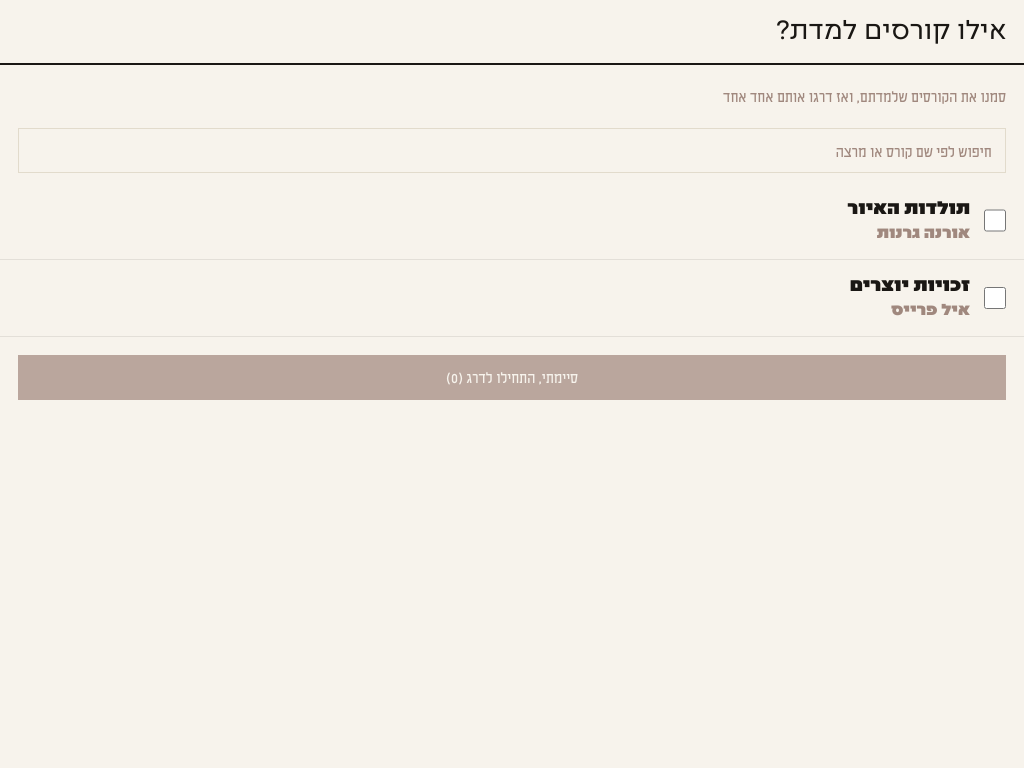
it: CatalogRate › moves to the swipe deck for the checked courses after Done
The width and height of the screenshot is (1024, 768).
Click the checkbox labelled "תולדות האיור אורנה גרנות": (995, 220) x1=984 y1=209 x2=1006 y2=232
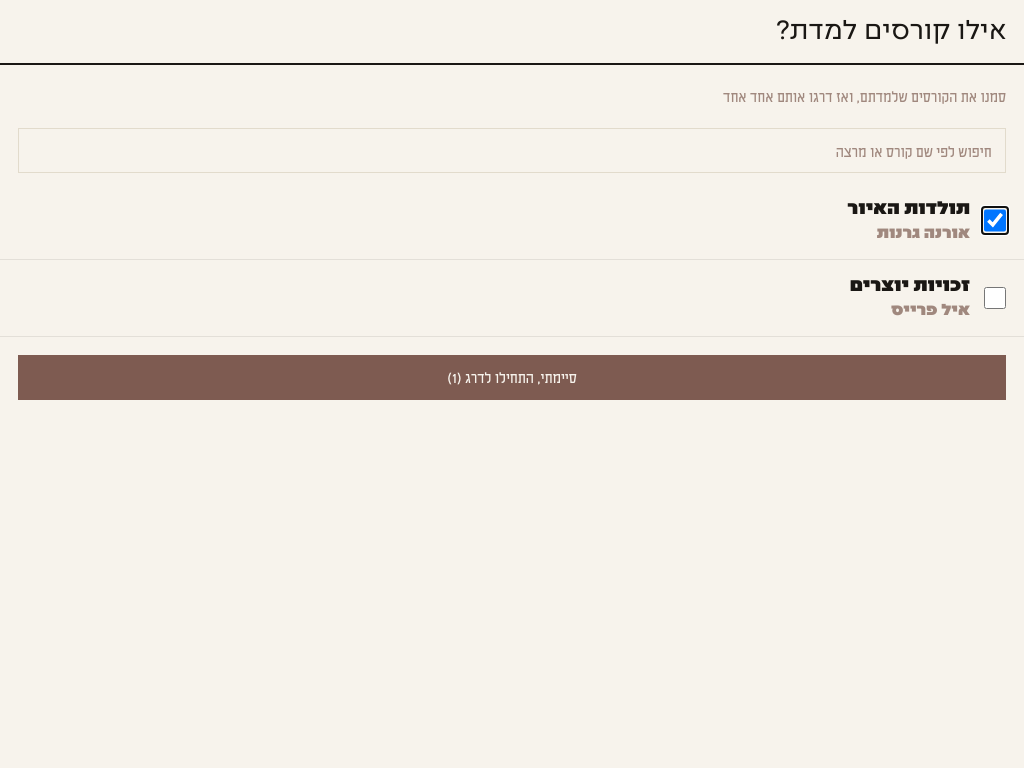
Click the button "סיימתי, התחילו לדרג (1)": (512, 378) x1=18 y1=355 x2=1006 y2=400
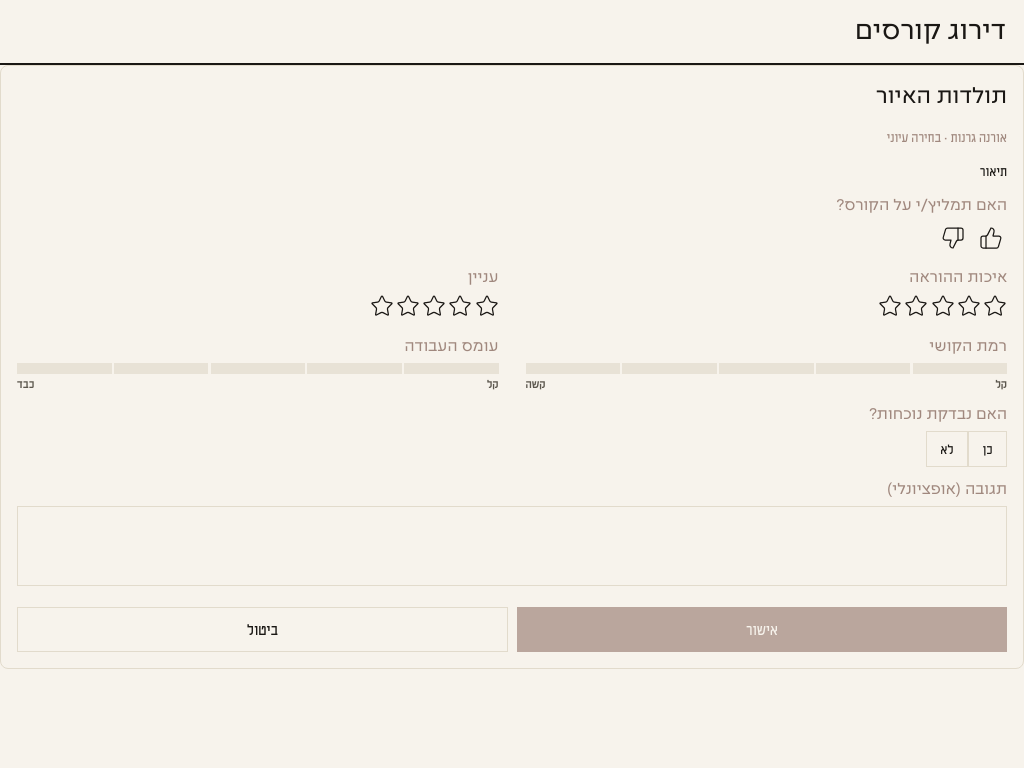
Expected: the heading "תולדות האיור" is shown, x1=876 y1=87 x2=1007 y2=107
Now the heading "אילו קורסים למדת?" is gone
